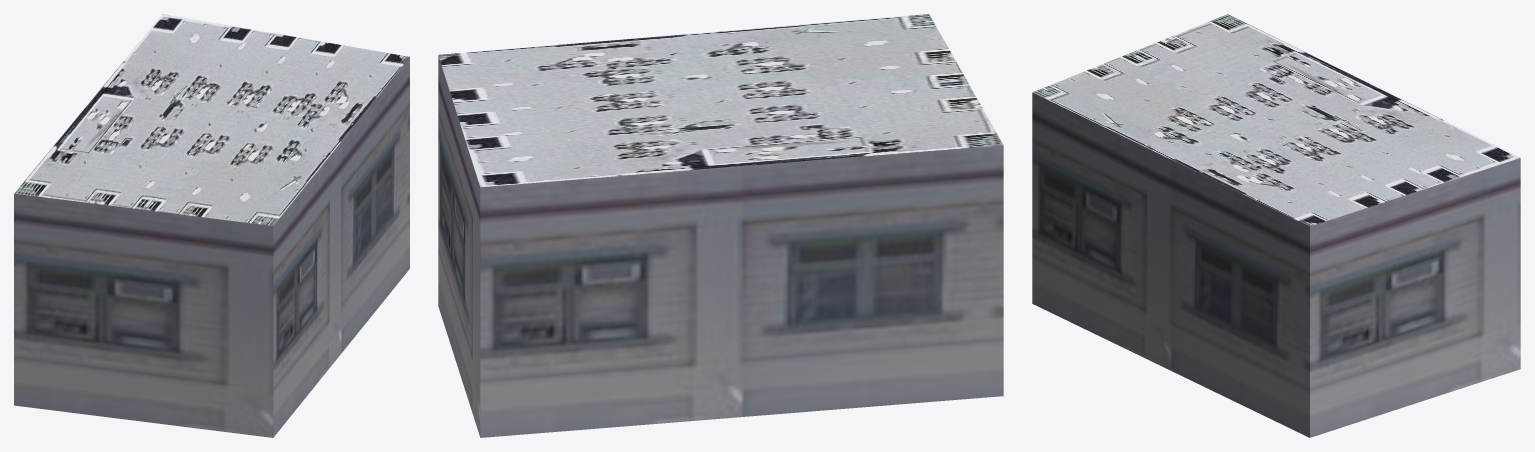
Rendered from ResTex__4157.fbx.
The picture shows the model from 3 angles, left to right: view 1: azimuth 30°, elevation 25°; view 2: azimuth 150°, elevation 25°; view 3: azimuth 270°, elevation 25°; orthographic projection. The views are drawn at different scales.
Parts seen in each view (by area): view 1: CityEngineMaterial_1_m, CityEngineMaterial_m; view 2: CityEngineMaterial_1_m, CityEngineMaterial_m; view 3: CityEngineMaterial_1_m, CityEngineMaterial_m.
Part boxes in pixels (x1,y1,x2,y2): CityEngineMaterial_1_m: (14, 57, 409, 437); CityEngineMaterial_m: (14, 14, 409, 225); CityEngineMaterial_1_m: (438, 56, 1003, 437); CityEngineMaterial_m: (438, 14, 1003, 187); CityEngineMaterial_1_m: (1032, 92, 1520, 437); CityEngineMaterial_m: (1032, 14, 1520, 226).
Bounding box in the file's own units: 6.47 × 3 × 6.28.
2 materials, 2 textured.
